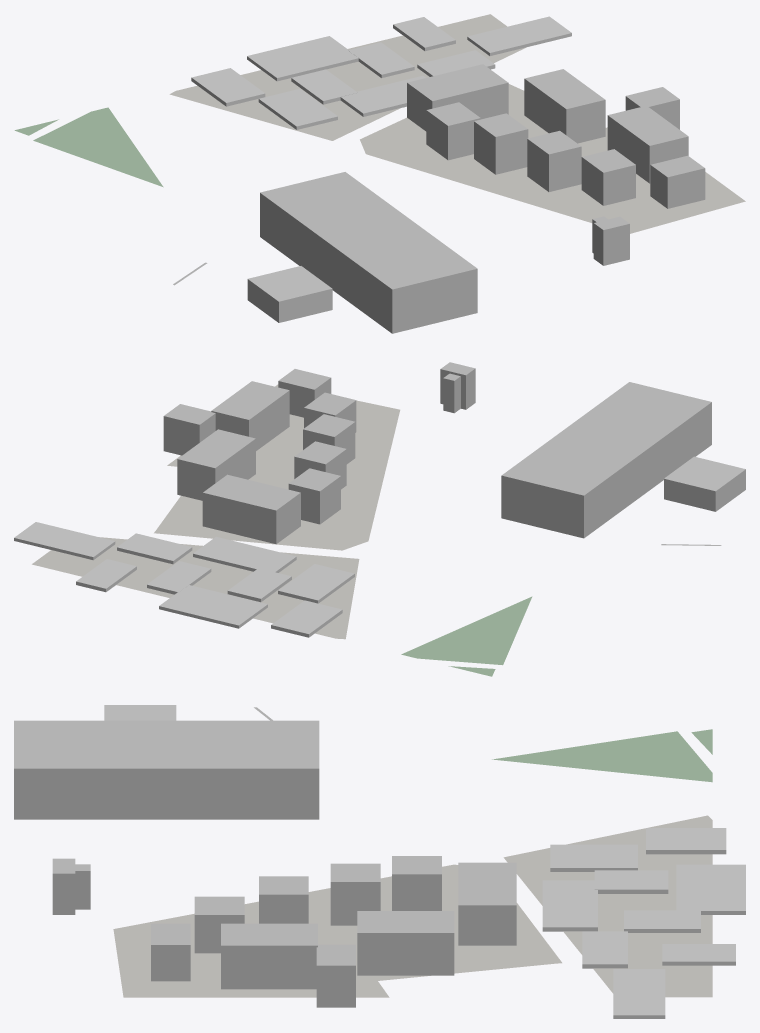
The model's file is 113_79_mid.glb.
3 renders of one model, top to bottom at view 1: azimuth 30°, elevation 25°; view 2: azimuth 150°, elevation 25°; view 3: azimuth 270°, elevation 25°, orthographic. The views are drawn at different scales.
Bounding box in the file's own units: 537 × 41.36 × 534.
